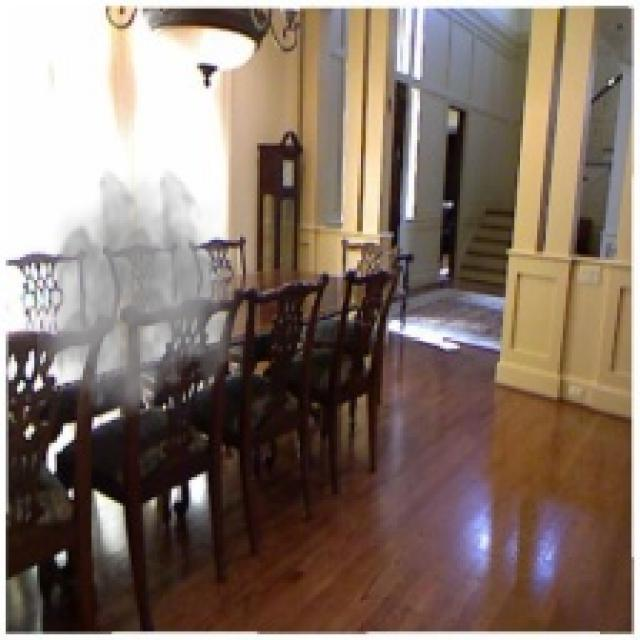Smoke: (37, 166, 249, 426)
